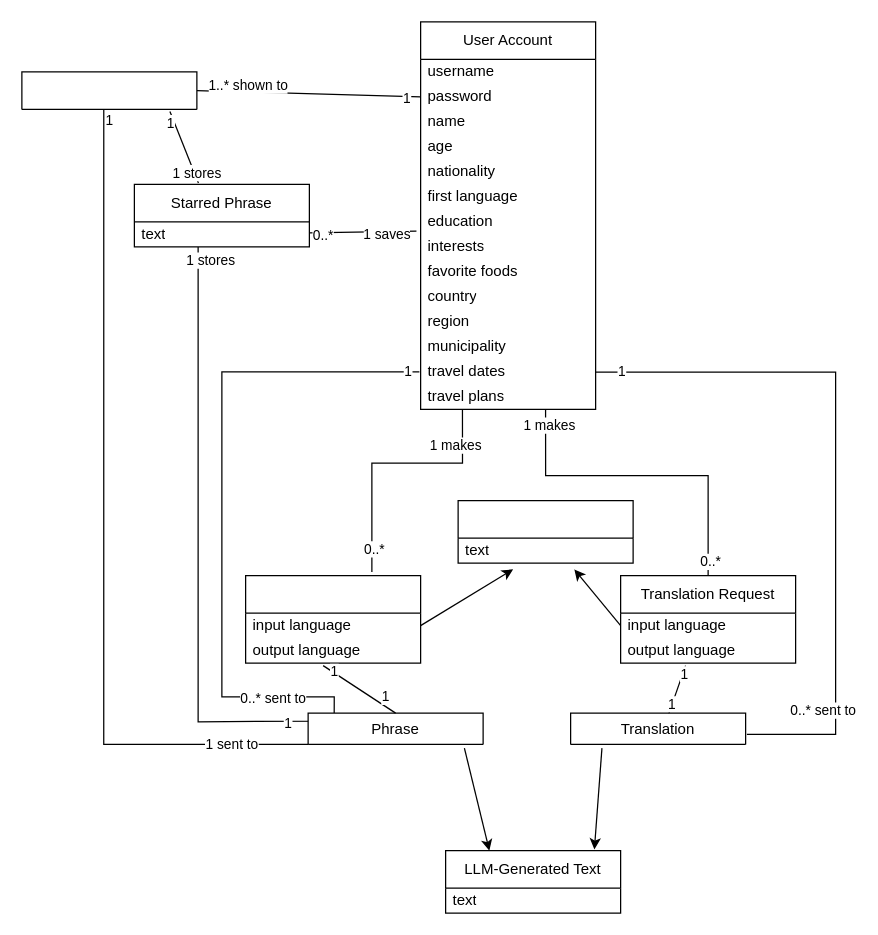
Some shapes in this 878 by 935 pixel diagram are drawn without their labels. Each missing label, with the box of its shape:
Phrase Request: (244, 574, 421, 663)
Phrase/Word of the Day: (21, 71, 197, 109)
Request: (457, 499, 633, 563)
